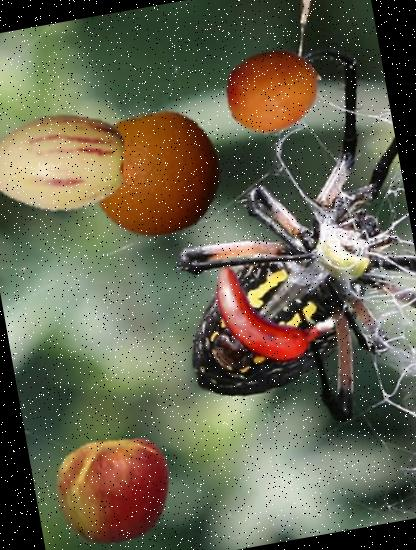Apple: (47, 423, 181, 550)
Apricot: (216, 34, 326, 144)
Banana: (189, 243, 338, 392)
Orange: (80, 98, 232, 250)
Pepino: (0, 81, 134, 243)
